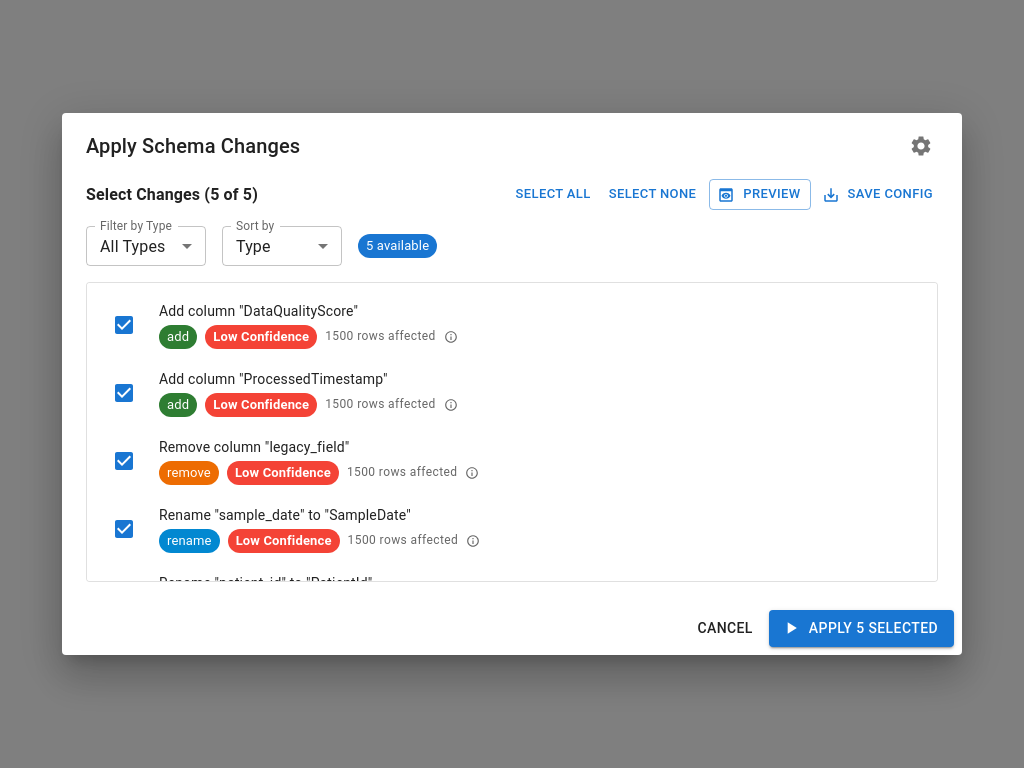
Test: Bulk Operations End-to-End Workflow › Advanced Execution Modes › should handle batch execution mode
Note: Configure batch execution - verify advanced settings are available
Step 1. Click the button named "Advanced settings" → coordinates (921, 146), box [904,129,938,163]
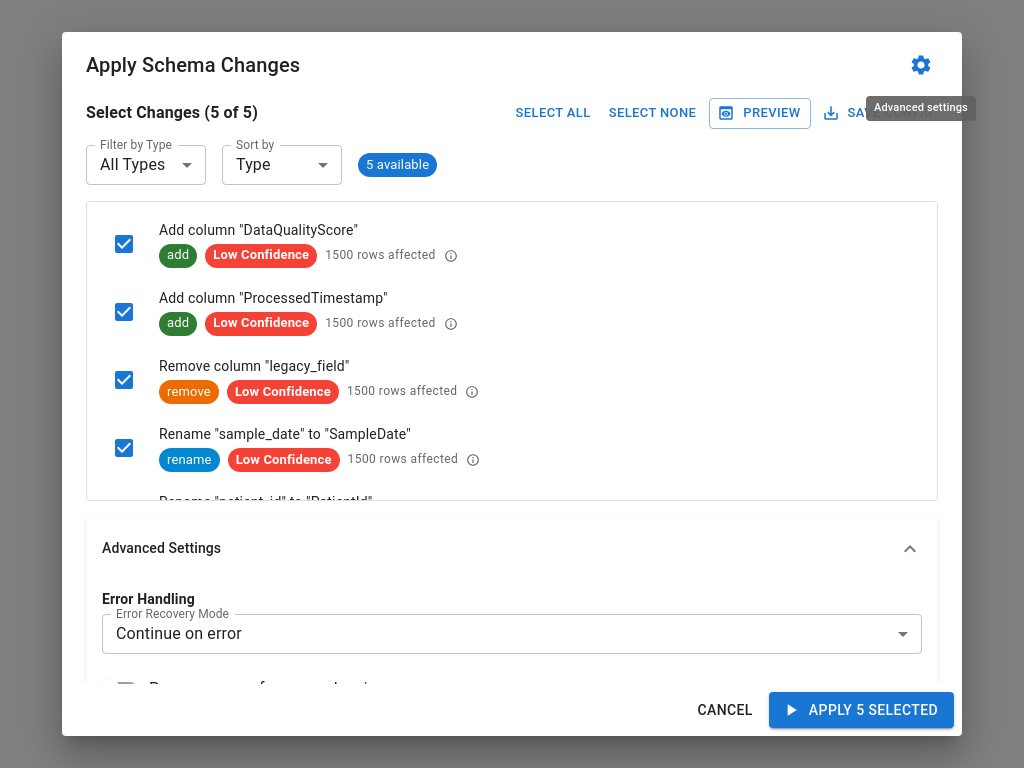
Expected: the heading "Advanced Settings" is shown, [102,538,221,560]
Note: Execute with batch mode
Step 2. Click the button "Apply 5 Selected" → coordinates (861, 710), box [769,692,954,728]
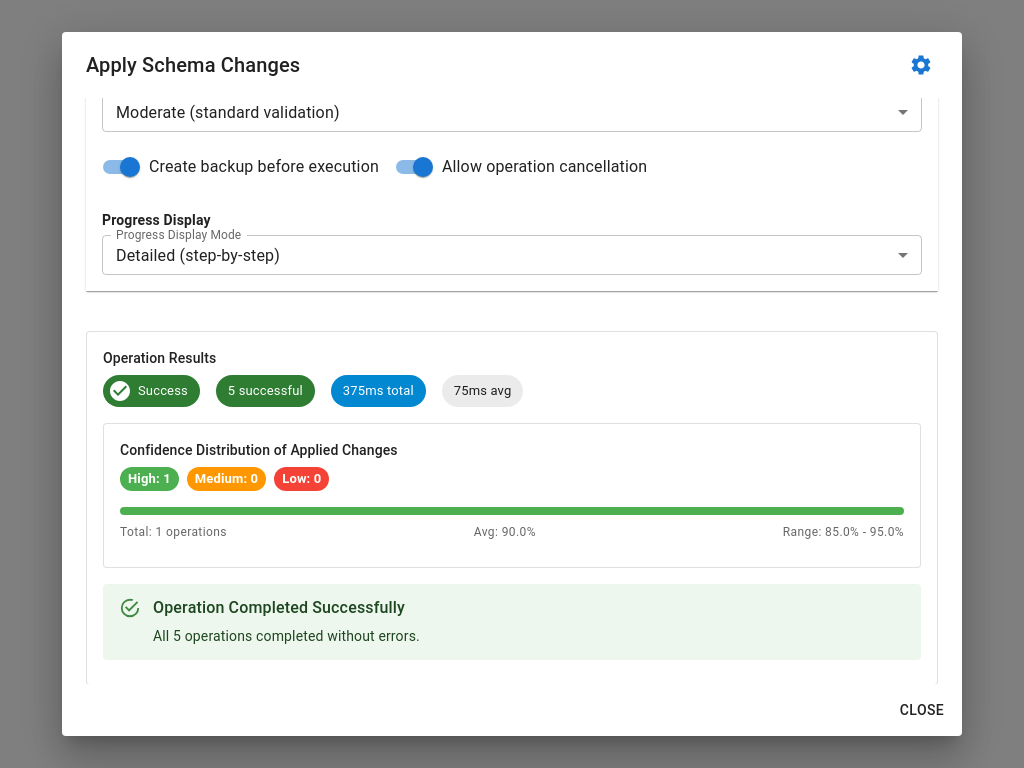
Expected: the text "Success" is shown, [138,383,188,398]
